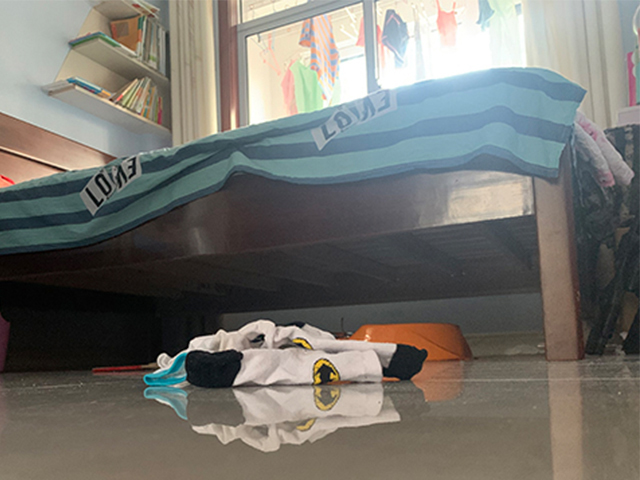bed: (1, 66, 636, 363)
socks: (142, 318, 431, 387)
